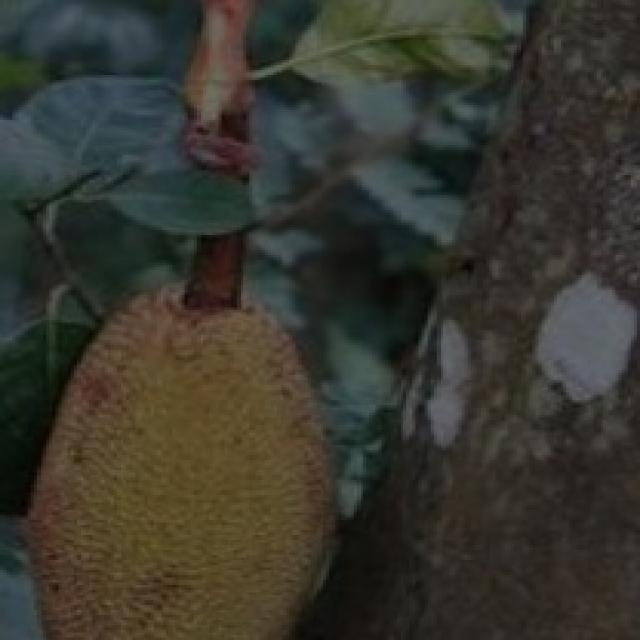Fruit: (0, 255, 388, 640)
